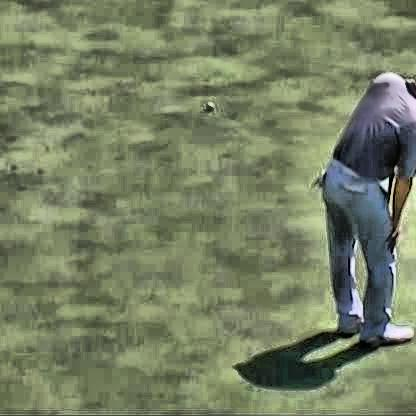golfball: (203, 98, 210, 108)
